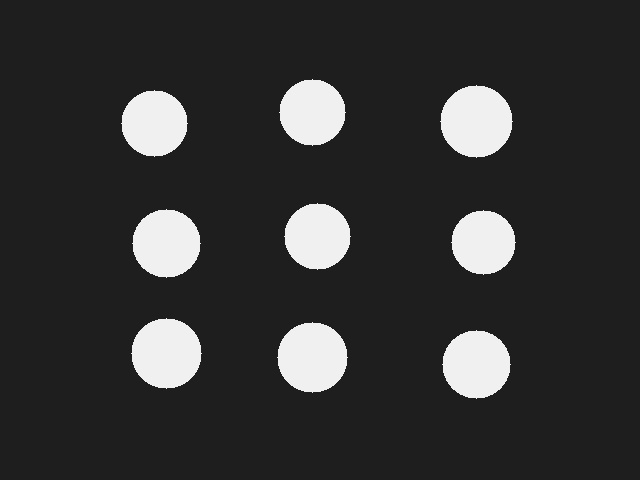hole: (440, 85, 512, 157), (131, 318, 201, 388), (277, 322, 347, 392), (132, 209, 200, 277), (442, 330, 510, 398), (121, 90, 187, 156), (279, 79, 345, 145), (284, 203, 350, 269), (451, 210, 515, 274)
